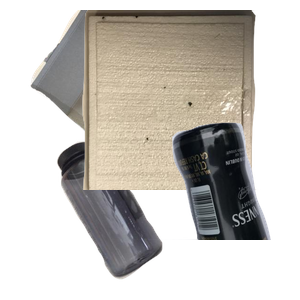glass: (106, 120, 300, 300)
paper: (28, 10, 268, 190)
plastic: (54, 136, 209, 300)
trash: (80, 10, 300, 190)
